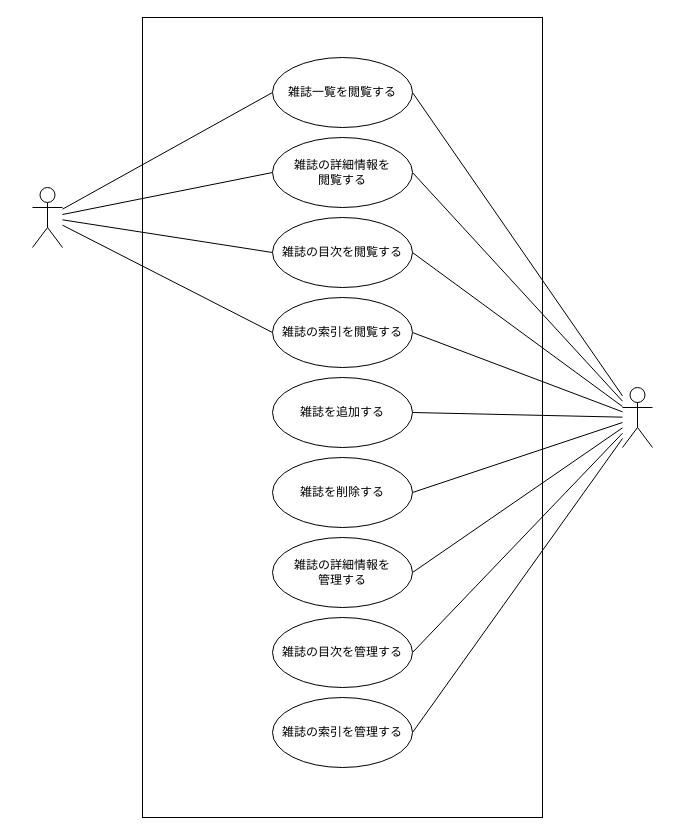
Some shapes in this 690 by 835 pixel diagram are drawn without their labels. The centre of each missing label's shape, as x and y in pixels:
一般ユーザ: the point at 47,217
管理者ユーザ: the point at 637,417
